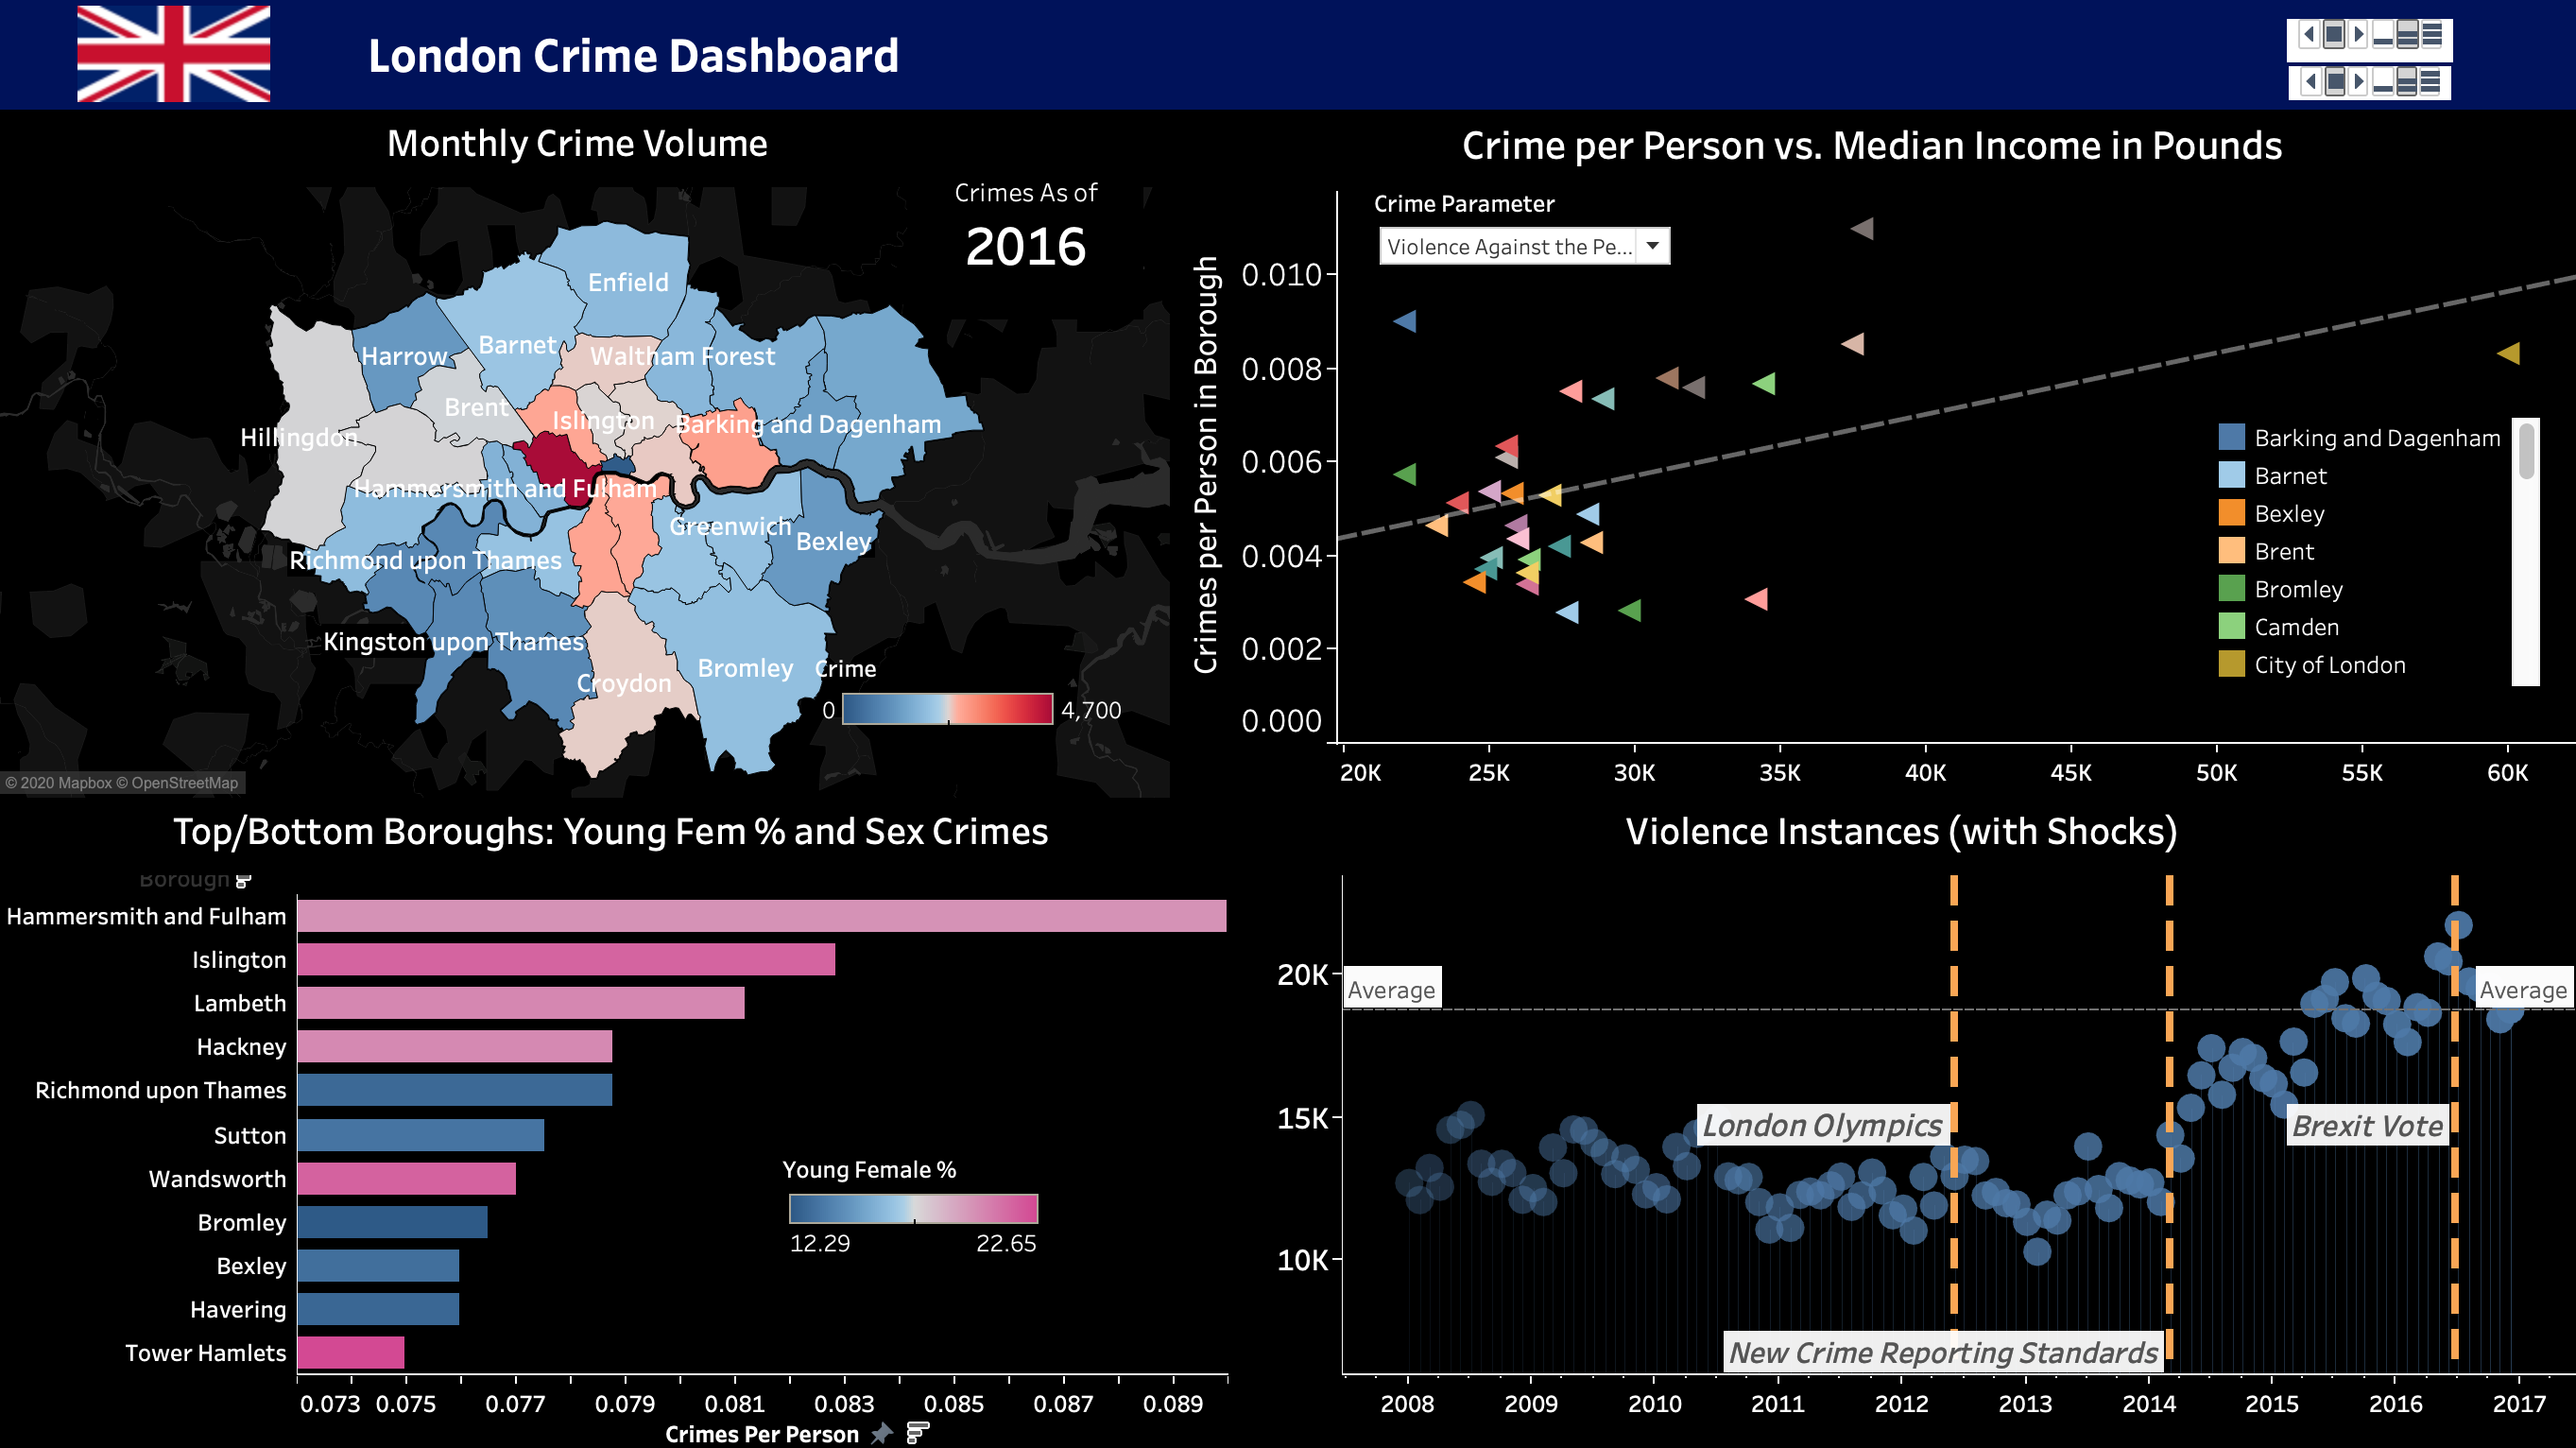

Layout of this report page (visuals, bound fields, positions):
{"tool":"tableau","page":{"name":"Dashboard 2","canvas":[1366,768],"ordinal":1},"visuals":[{"type":"worksheet","box":[0,0,1366,768]},{"type":"worksheet","param":"vert","box":[1,1,1366,768]},{"type":"worksheet","param":"horz","box":[1,1,1366,59]},{"type":"worksheet","param":"Image/download-1.png","box":[1,1,191,59]},{"type":"worksheet","box":[192,1,1175,59]},{"type":"worksheet","param":"horz","box":[8,8,1350,752]},{"type":"worksheet","param":"horz","box":[8,8,1190,752]},{"type":"worksheet","param":"horz","box":[8,8,1190,752]},{"type":"worksheet","param":"horz","box":[8,8,1190,752]},{"type":"worksheet","param":"horz","box":[8,8,1190,752]},{"type":"worksheet","box":[8,8,1190,752]},{"type":"worksheet","param":"vert","box":[1198,8,160,752]},{"type":"worksheet","param":"[Parameters].[Parameter 1 1]","box":[1198,8,160,52]},{"type":"worksheet","title":"Sheet 6","mark":"Automatic","box":[1214,12,88,23]},{"type":"worksheet","title":"Sheet 1","mark":"Line","rows":["value","value"],"cols":["Calculation_799318606544736265"],"box":[1215,37,86,18]},{"type":"worksheet","box":[1,60,1366,364]},{"type":"worksheet","param":"horz","box":[1,60,622,364]},{"type":"worksheet","title":"Sheet 6","mark":"Automatic","box":[1,60,622,364]},{"type":"worksheet","param":"horz","box":[623,60,744,364]},{"type":"worksheet","title":"Crime per Person vs. Median Income in Pounds","mark":"Shape","rows":["Calculation_346355000228392960"],"cols":["Median Income in Pounds"],"box":[623,60,744,364]},{"type":"worksheet","title":"Sheet 8","mark":"Automatic","box":[484,72,125,99]},{"type":"worksheet","param":"[Parameters].[Parameter 2]","box":[731,101,160,44]},{"type":"worksheet","title":"Crime per Person vs. Median Income in Pounds","mark":"Shape","rows":["Calculation_346355000228392960"],"cols":["Median Income in Pounds"],"param":"[federated.0riyaxq1xqm2by16y45cb0j4stv5].[none:borough:nk]","box":[1175,223,175,142]},{"type":"worksheet","title":"Sheet 6","mark":"Automatic","param":"[federated.1b5pyab14z53ec11ja4m21d2lw9u].[sum:value:qk]","box":[435,347,168,76]},{"type":"worksheet","box":[1,424,1366,345]},{"type":"worksheet","param":"horz","box":[1,424,653,345]},{"type":"worksheet","title":"Sheet 4","mark":"Automatic","rows":["borough"],"cols":["Calculation_799318606510444551"],"box":[1,424,653,345]},{"type":"worksheet","param":"horz","box":[654,424,713,345]},{"type":"worksheet","title":"Sheet 1","mark":"Line","rows":["value","value"],"cols":["Calculation_799318606544736265"],"box":[654,424,713,345]},{"type":"worksheet","title":"Sheet 4","mark":"Automatic","rows":["borough"],"cols":["Calculation_799318606510444551"],"param":"[federated.0b3tvxl14g291612yaj2q1vl9eyw].[usr:Calculation_799318606506803206:qk]","box":[418,612,140,76]}]}

Visuals, with their boxes in screenshot pixels (x1, y1, x2, y2), scaled from the page's 1366x768 canvas onto the 2576x1448 screenshot:
worksheet: [left=0, top=0, right=2575, bottom=1447]
worksheet: [left=2, top=2, right=2575, bottom=1447]
worksheet: [left=2, top=2, right=2575, bottom=113]
worksheet: [left=2, top=2, right=362, bottom=113]
worksheet: [left=362, top=2, right=2575, bottom=113]
worksheet: [left=15, top=15, right=2561, bottom=1433]
worksheet: [left=15, top=15, right=2259, bottom=1433]
worksheet: [left=15, top=15, right=2259, bottom=1433]
worksheet: [left=15, top=15, right=2259, bottom=1433]
worksheet: [left=15, top=15, right=2259, bottom=1433]
worksheet: [left=15, top=15, right=2259, bottom=1433]
worksheet: [left=2259, top=15, right=2561, bottom=1433]
worksheet: [left=2259, top=15, right=2561, bottom=113]
"Sheet 6" worksheet: [left=2290, top=23, right=2455, bottom=66]
"Sheet 1" worksheet (Line marks): [left=2292, top=70, right=2453, bottom=104]
worksheet: [left=2, top=113, right=2575, bottom=800]
worksheet: [left=2, top=113, right=1175, bottom=800]
"Sheet 6" worksheet: [left=2, top=113, right=1175, bottom=800]
worksheet: [left=1175, top=113, right=2575, bottom=800]
"Crime per Person vs. Median Income in Pounds" worksheet (Shape marks): [left=1175, top=113, right=2575, bottom=800]
"Sheet 8" worksheet: [left=913, top=136, right=1148, bottom=322]
worksheet: [left=1379, top=190, right=1680, bottom=273]
"Crime per Person vs. Median Income in Pounds" worksheet (Shape marks): [left=2216, top=421, right=2546, bottom=688]
"Sheet 6" worksheet: [left=820, top=654, right=1137, bottom=798]
worksheet: [left=2, top=800, right=2575, bottom=1447]
worksheet: [left=2, top=800, right=1233, bottom=1447]
"Sheet 4" worksheet: [left=2, top=800, right=1233, bottom=1447]
worksheet: [left=1233, top=800, right=2575, bottom=1447]
"Sheet 1" worksheet (Line marks): [left=1233, top=800, right=2575, bottom=1447]
"Sheet 4" worksheet: [left=788, top=1154, right=1053, bottom=1297]
